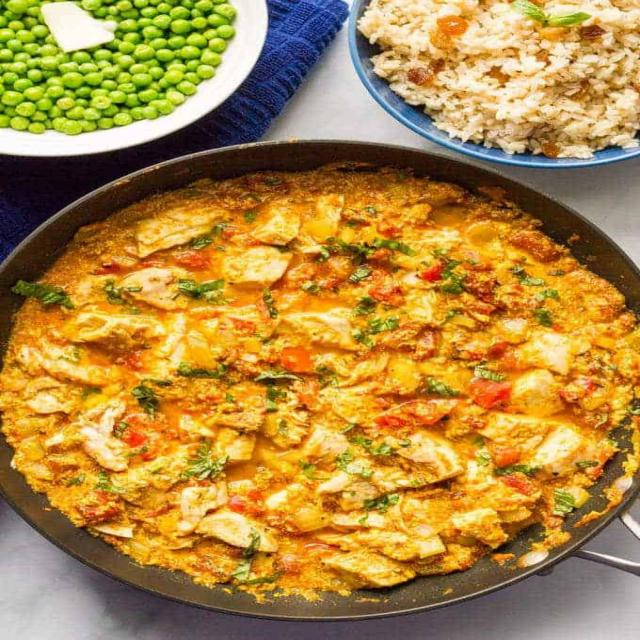chicken: (7, 175, 635, 593)
rice: (381, 0, 640, 150)
